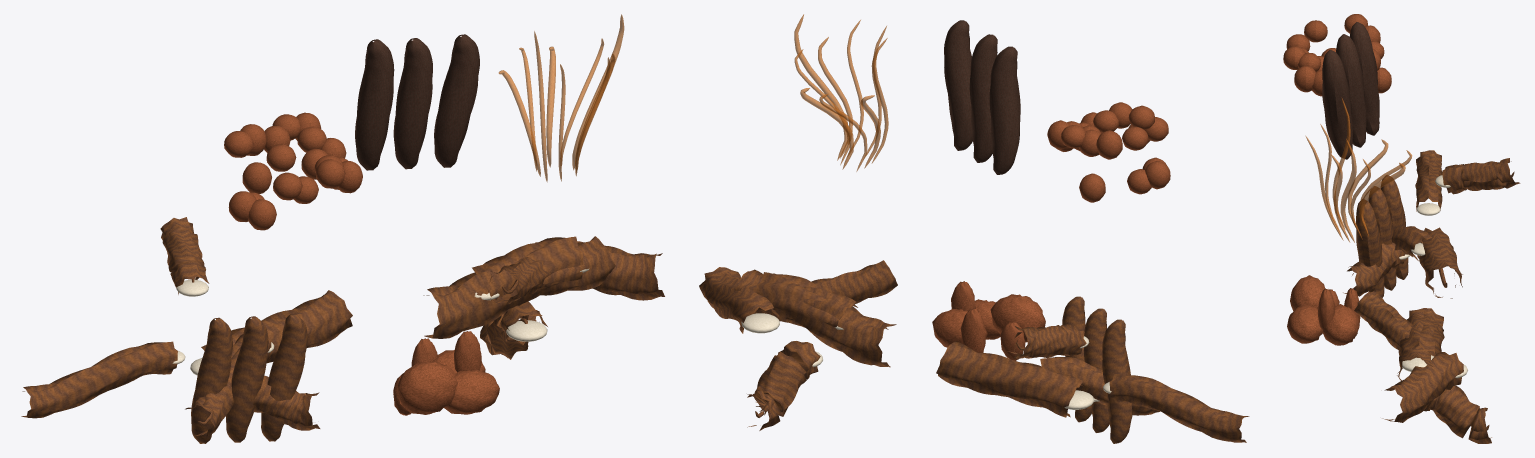
The model's file is amber-noir-ingredients.glb.
3 renders of one model, left to right at view 1: azimuth 30°, elevation 25°; view 2: azimuth 150°, elevation 25°; view 3: azimuth 270°, elevation 25°, orthographic. The views are drawn at different scales.
Parts seen in each view (by area): view 1: Sandalwood · detail (×6), Cedar · detail (×5), Vanilla · detail (×3), Pink pepper · detail, Cinnamon · detail (×3), Amber · detail, Saffron · detail (×4); view 2: Sandalwood · detail (×6), Cedar · detail (×4), Vanilla · detail (×3), Pink pepper · detail, Amber · detail, Cinnamon · detail (×3), Saffron · detail (×4); view 3: Sandalwood · detail (×5), Cedar · detail (×6), Vanilla · detail (×3), Amber · detail, Saffron · detail (×9), Cinnamon · detail (×3), Pink pepper · detail.
Part boxes in pixels (bbox=[...]): Sandalwood · detail (×6): bbox=[423, 236, 664, 359]; Cedar · detail (×5): bbox=[21, 217, 352, 436]; Vanilla · detail (×3): bbox=[355, 34, 479, 170]; Pink pepper · detail: bbox=[224, 112, 362, 230]; Cinnamon · detail (×3): bbox=[191, 314, 307, 443]; Amber · detail: bbox=[393, 331, 499, 415]; Saffron · detail (×4): bbox=[498, 14, 624, 182]; Sandalwood · detail (×6): bbox=[699, 260, 897, 430]; Cedar · detail (×4): bbox=[936, 324, 1249, 442]; Vanilla · detail (×3): bbox=[944, 20, 1020, 174]; Pink pepper · detail: bbox=[1047, 102, 1170, 202]; Amber · detail: bbox=[932, 281, 1045, 360]; Cinnamon · detail (×3): bbox=[1062, 296, 1132, 443]; Saffron · detail (×4): bbox=[794, 14, 888, 169]; Sandalwood · detail (×5): bbox=[1354, 290, 1491, 443]; Cedar · detail (×6): bbox=[1343, 150, 1520, 298]; Vanilla · detail (×3): bbox=[1322, 22, 1379, 159]; Amber · detail: bbox=[1287, 275, 1360, 345]; Saffron · detail (×9): bbox=[1305, 97, 1412, 242]; Cinnamon · detail (×3): bbox=[1356, 175, 1408, 297]; Pink pepper · detail: bbox=[1283, 14, 1391, 96].
Size of the model in its own units: 4.17 by 2.63 by 1.68.
Materials: 5 (5 with a texture image).
